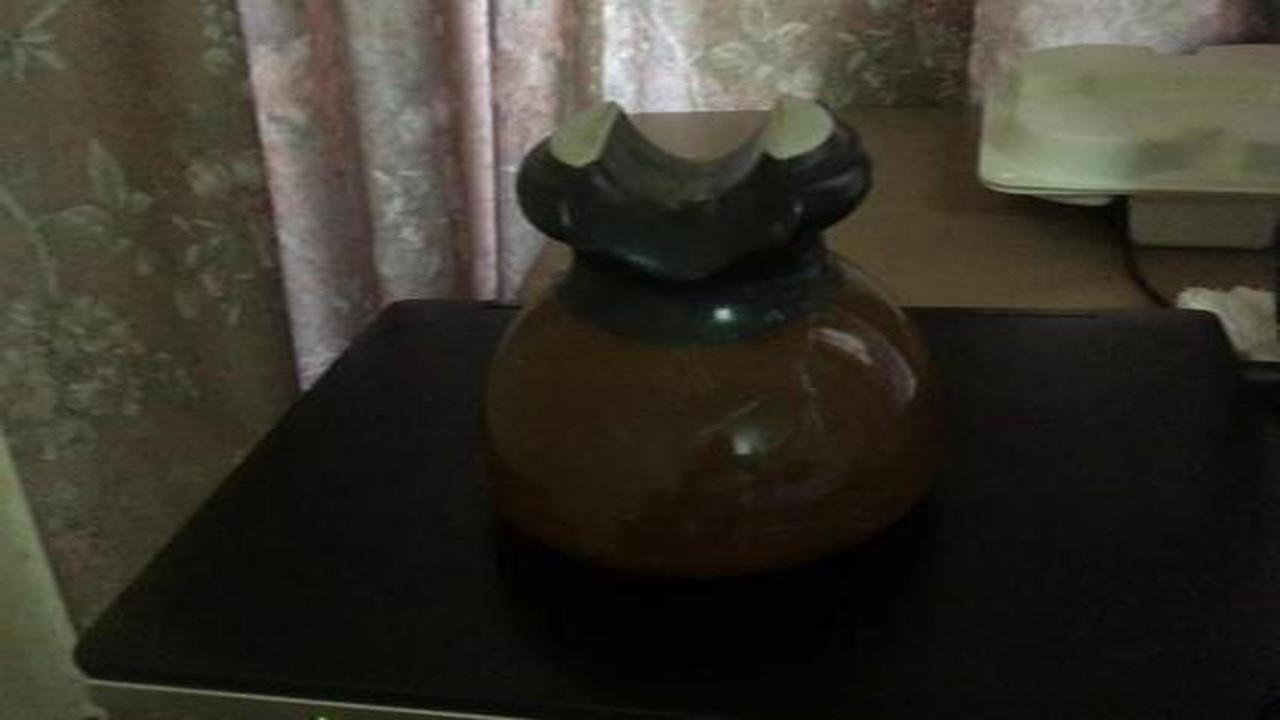insulator_pin: (459, 89, 967, 599)
